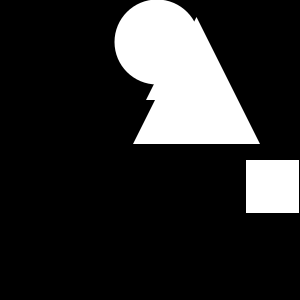circle: (246, 160, 299, 213)
rectangle: (114, 0, 200, 84)
triangle: (133, 17, 260, 144), (146, 17, 229, 100), (146, 15, 202, 71)
